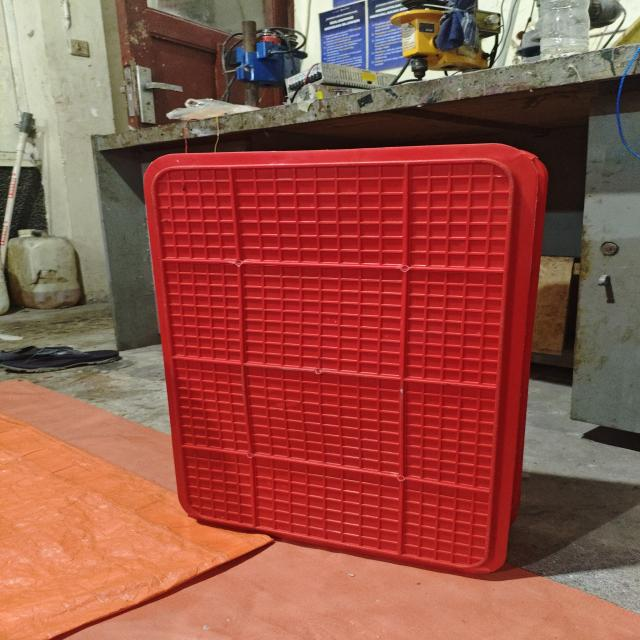red plastic box: (143, 143, 549, 575)
